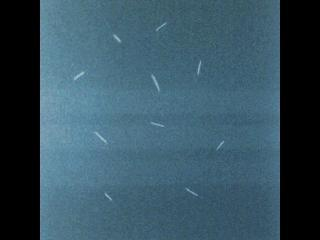scratch: (183, 186, 203, 200), (102, 189, 117, 205), (93, 130, 109, 145), (71, 67, 86, 81), (145, 120, 166, 130), (150, 73, 160, 93), (214, 139, 225, 153), (195, 58, 203, 77), (155, 21, 168, 32), (111, 32, 122, 44)
